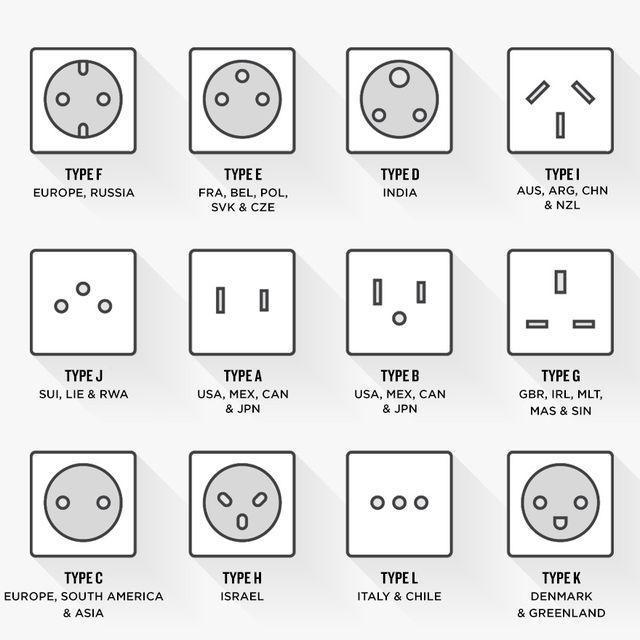typeb: (19, 43, 150, 163)
